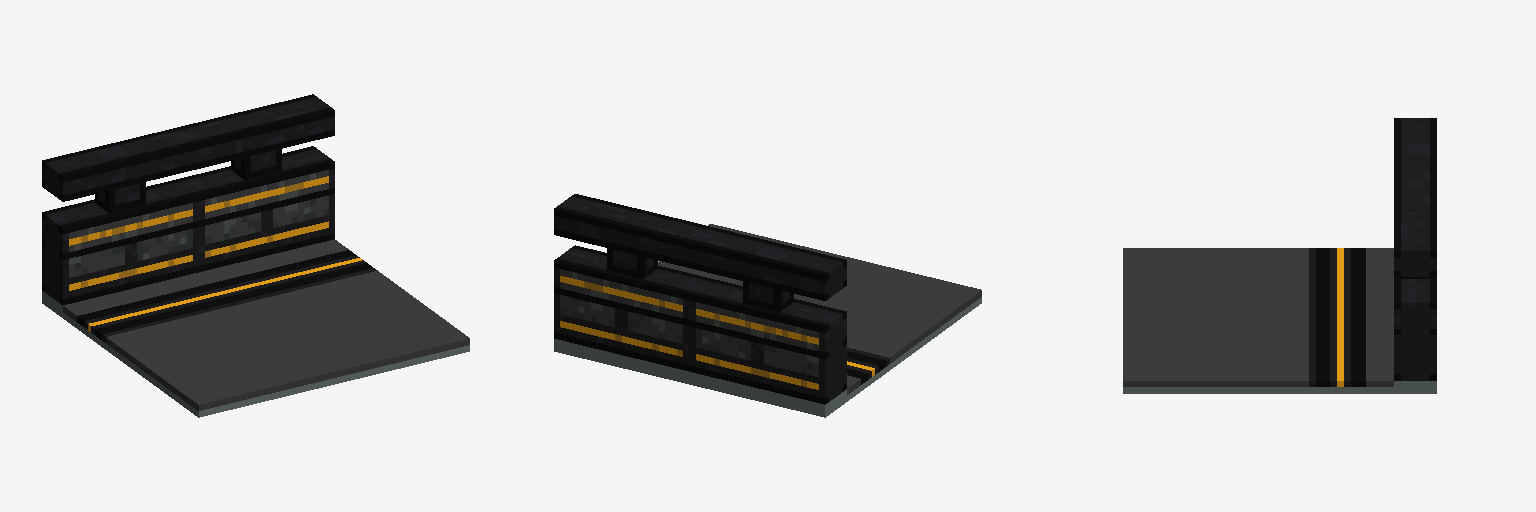
The picture shows the model from 3 angles: view 1: azimuth 30°, elevation 25°; view 2: azimuth 150°, elevation 25°; view 3: azimuth 270°, elevation 25°; orthographic projection.
Visible parts, largest first — view 1: object 1; view 2: object 1; view 3: object 1.
Part boxes in pixels (x1,y1,x2,y2): object 1: (42, 94, 469, 417); object 1: (554, 194, 981, 417); object 1: (1123, 118, 1436, 393).
Size of the model in its own units: 4.4 by 2.2 by 4.4.
Materials: 1 (1 with a texture image).